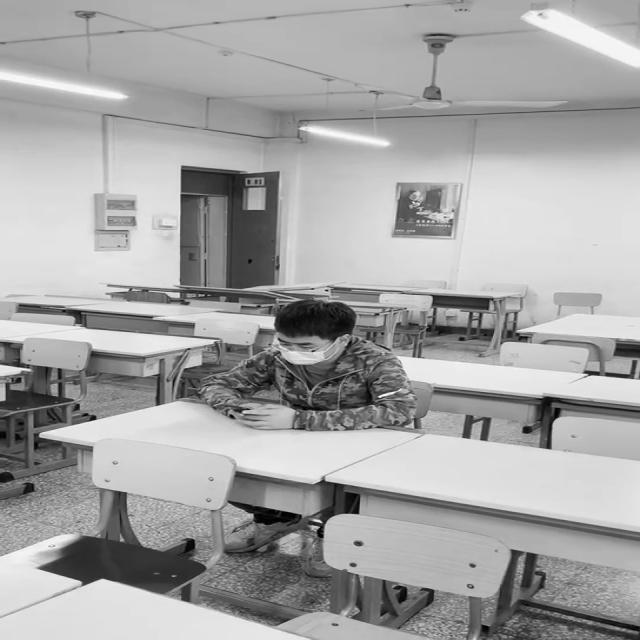phone: (197, 300, 416, 430)
